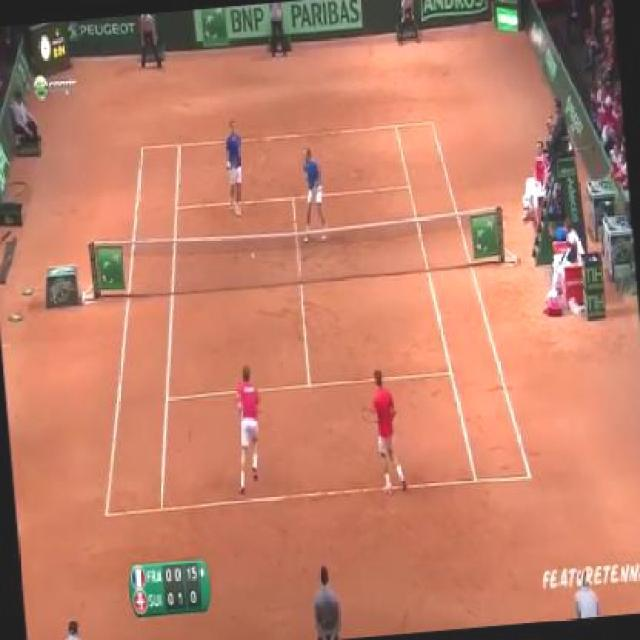non-fight: (358, 362, 407, 492), (228, 362, 266, 486), (216, 112, 252, 222), (294, 143, 332, 243)
